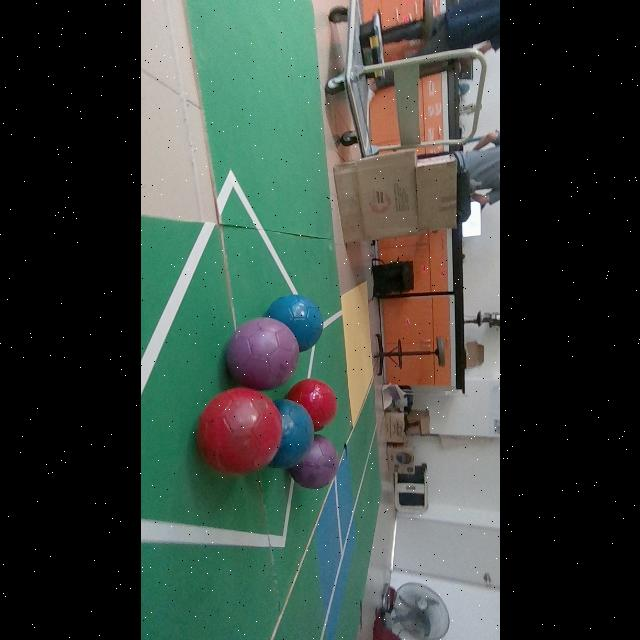B: (265, 294, 323, 352), (268, 399, 314, 467)
P: (226, 317, 298, 390), (289, 435, 339, 490)
R: (196, 387, 281, 475), (286, 378, 338, 432)
